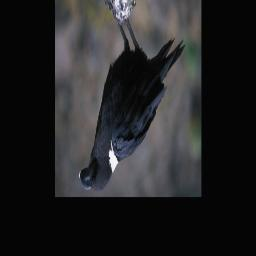Crow: (78, 0, 186, 192)
